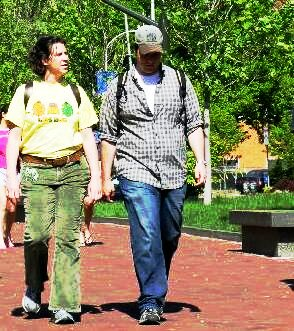person: (103, 25, 209, 321), (3, 36, 105, 323)
